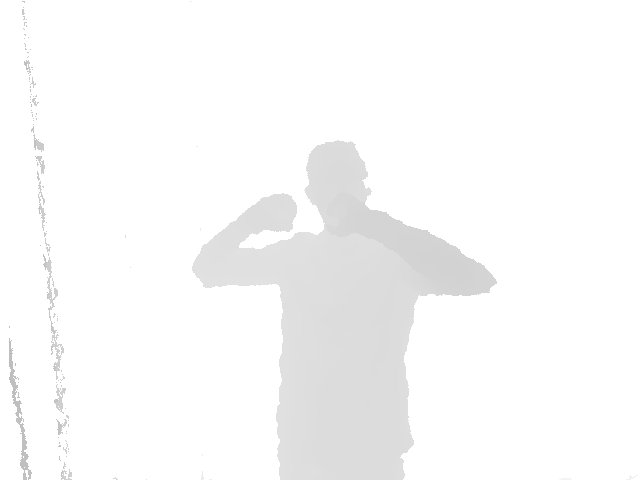head: (304, 141, 371, 234)
person: (191, 141, 499, 480)
